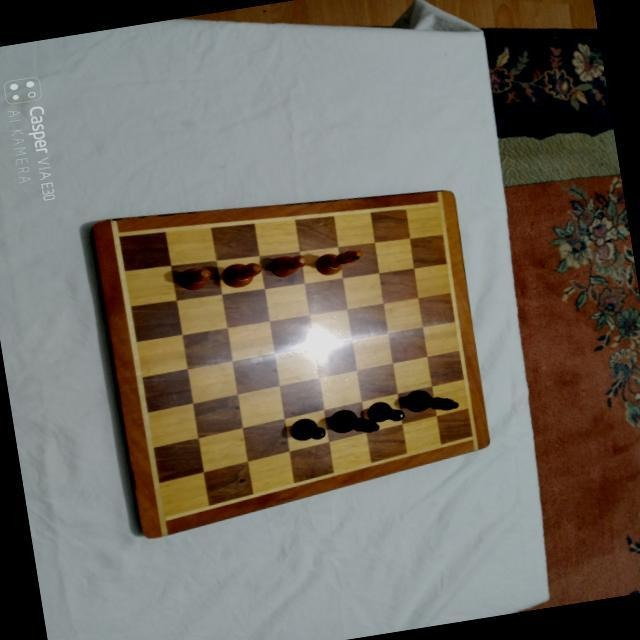black-bishop: (404, 383, 458, 417), (327, 405, 381, 439)
black-pawn: (365, 398, 405, 426), (286, 416, 325, 444)
white-bishop: (311, 246, 364, 277), (220, 258, 264, 289)
white-pawn: (269, 252, 310, 280), (176, 265, 213, 291)
